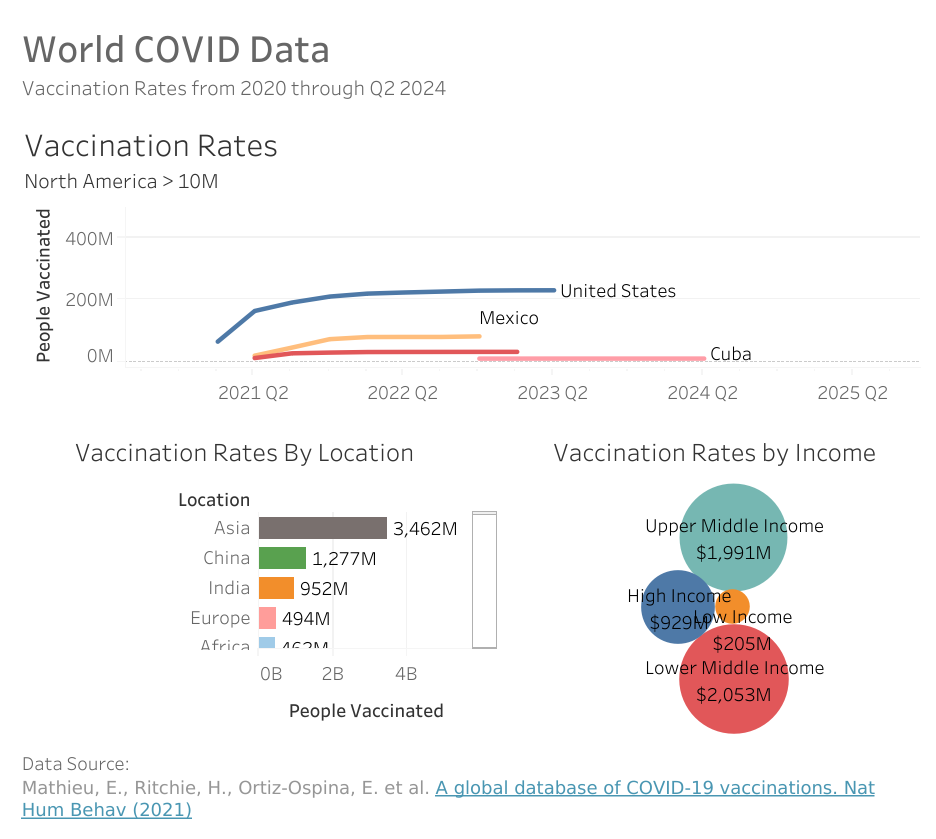

The page's visual inventory and layout, read from the dashboard file:
{"tool":"tableau","page":{"name":"Dashboard 1","canvas":[650,860],"ordinal":0},"visuals":[{"type":"text","box":[8,9.2,634,70.1]},{"type":"worksheet","title":"Sheet 1","mark":"Area","rows":["Order ID"],"cols":["Order Date"],"box":[8,79.3,634,193.2]},{"type":"worksheet","title":"Sheet 4","mark":"Automatic","rows":["Product"],"cols":["Quantity Ordered"],"box":[8,272.5,634,193.2]},{"type":"worksheet","title":"Sheet 5","mark":"Bar","rows":["Order Date"],"cols":["Order ID"],"box":[8,465.7,634,385.1]}]}

Visuals, with their boxes on the page's 650x860 design canvas (x1, y1, x2, y2). These are canvas units, not pixel positions in the 936x839 screenshot, which may show the page scaled, cropped or inside an application window:
text: [8, 9, 642, 79]
"Sheet 1" worksheet (Area marks): [8, 79, 642, 272]
"Sheet 4" worksheet: [8, 272, 642, 466]
"Sheet 5" worksheet (Bar marks): [8, 466, 642, 851]
